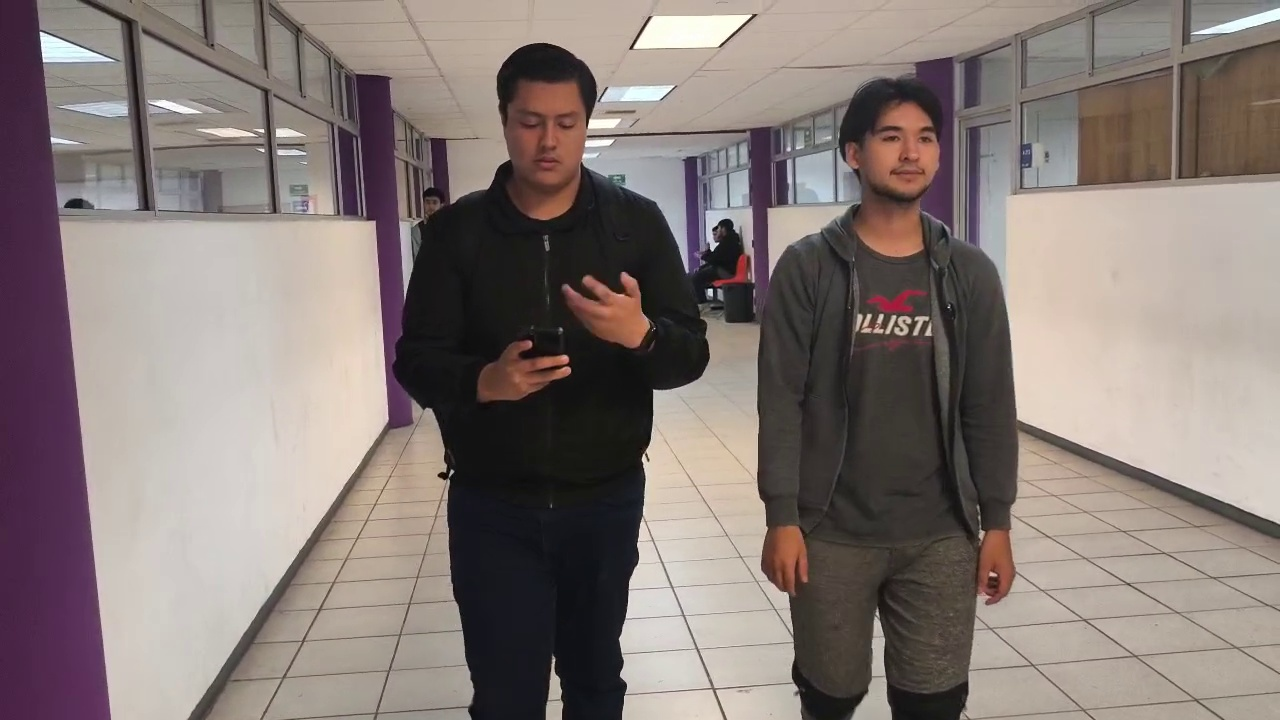mixto2: (510, 313, 570, 371)
